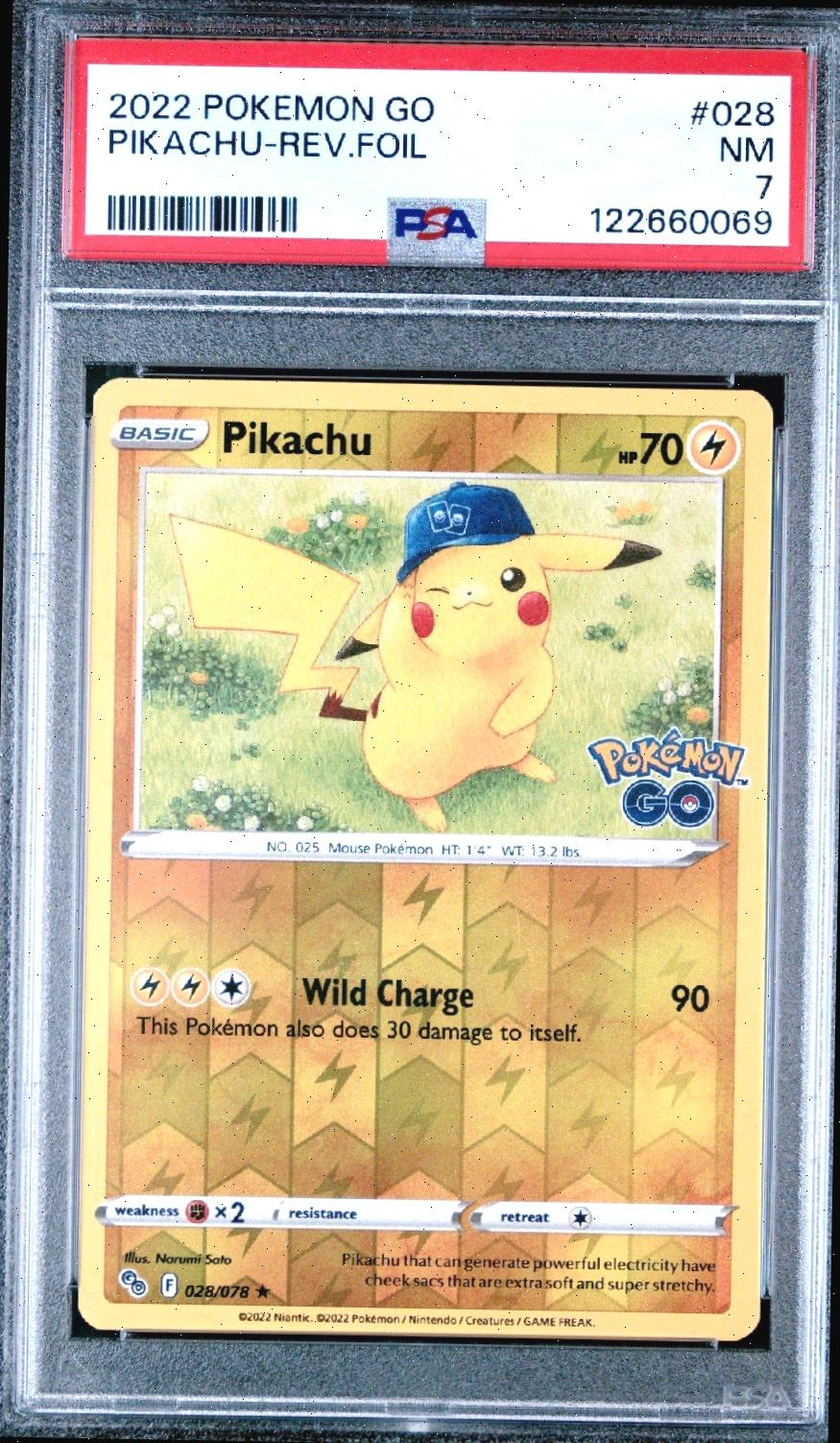card-2UtV: (77, 376, 774, 1341)
